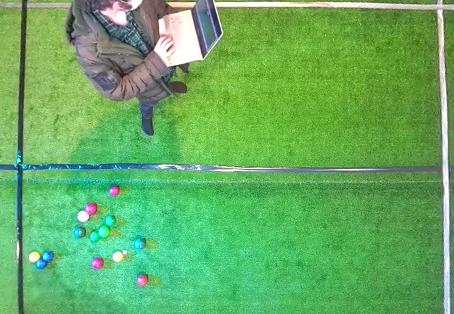blue: (42, 250, 54, 262), (36, 258, 47, 269)
green: (73, 226, 86, 238), (99, 226, 110, 238), (134, 238, 146, 249), (106, 215, 116, 226), (90, 231, 100, 241)
red: (91, 258, 104, 270), (85, 203, 97, 215), (77, 211, 89, 222), (137, 275, 148, 286), (109, 185, 120, 196)
vline: (1, 0, 28, 313), (435, 0, 453, 314)
white: (123, 250, 127, 254)
yellow: (112, 251, 123, 262), (29, 252, 40, 262)
